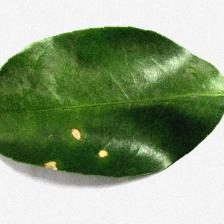canker: (24, 124, 118, 178)
